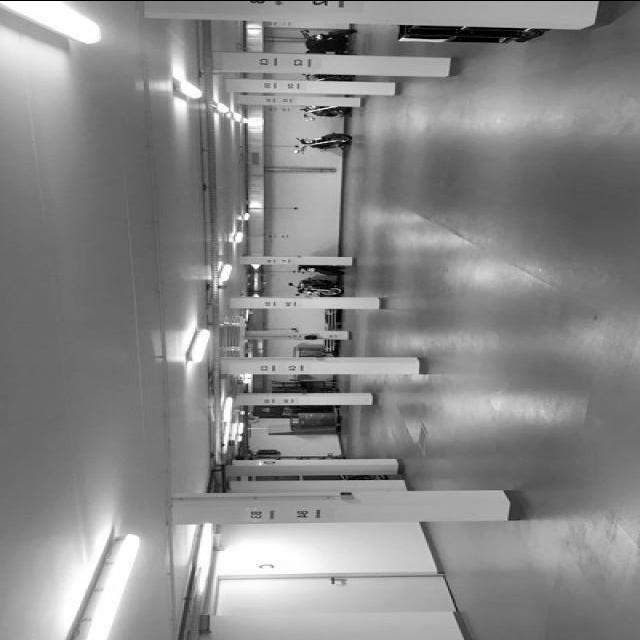light: (68, 531, 141, 639), (0, 0, 102, 44), (186, 327, 211, 362)
